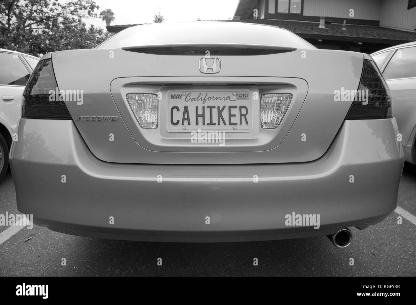license plate: (164, 89, 254, 135)
